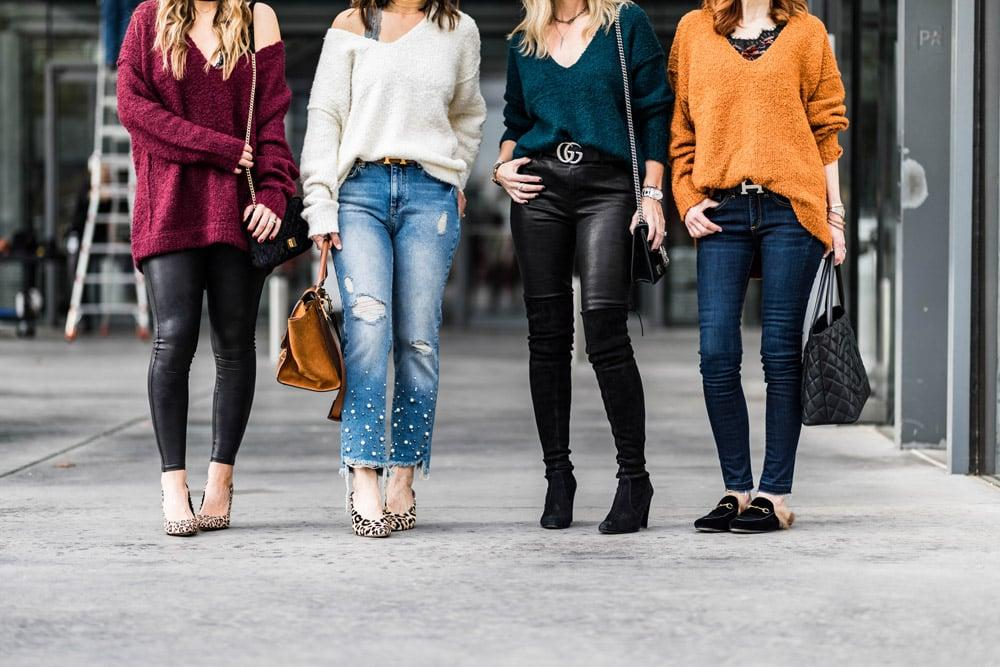sweater: (113, 1, 297, 268), (668, 7, 850, 251), (297, 7, 490, 236), (498, 2, 675, 175)
trousers: (514, 147, 654, 484), (331, 157, 465, 475), (694, 184, 826, 500), (140, 240, 270, 474)
